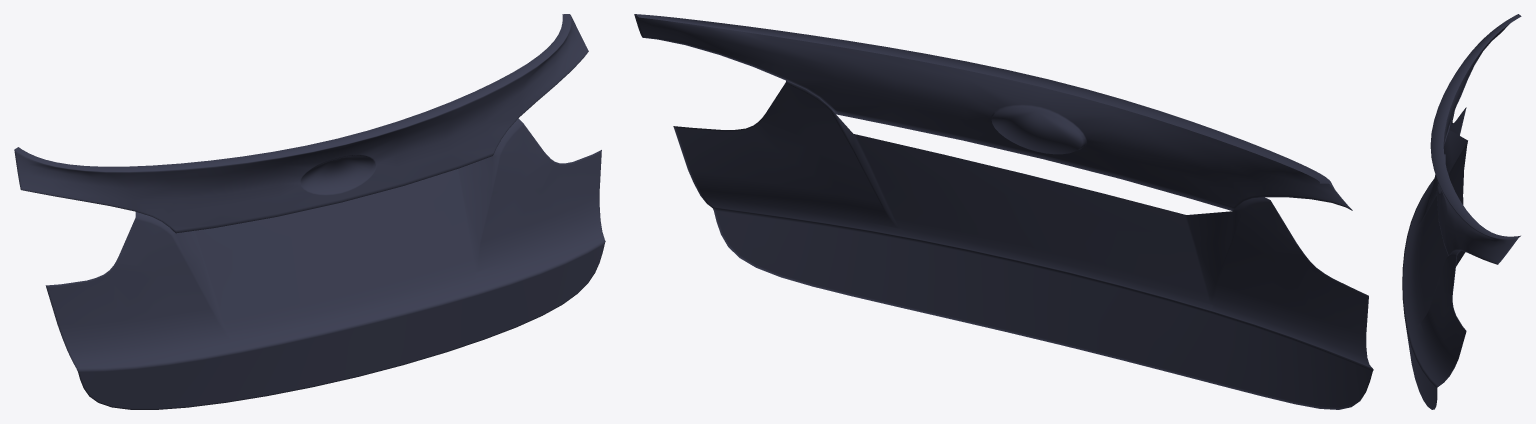
Rendered from trunk.fbx.
3 renders of one model, left to right at view 1: azimuth 30°, elevation 25°; view 2: azimuth 150°, elevation 25°; view 3: azimuth 270°, elevation 25°, orthographic. The views are drawn at different scales.
Visible parts, largest first — view 1: cc1.006; view 2: cc1.006; view 3: cc1.006.
Part boxes in pixels (left/top/right/bottom): cc1.006: left=14, top=14, right=605, bottom=409; cc1.006: left=634, top=14, right=1373, bottom=409; cc1.006: left=1402, top=14, right=1521, bottom=409.
Bounding box in the file's own units: 176 × 73.12 × 38.9.
